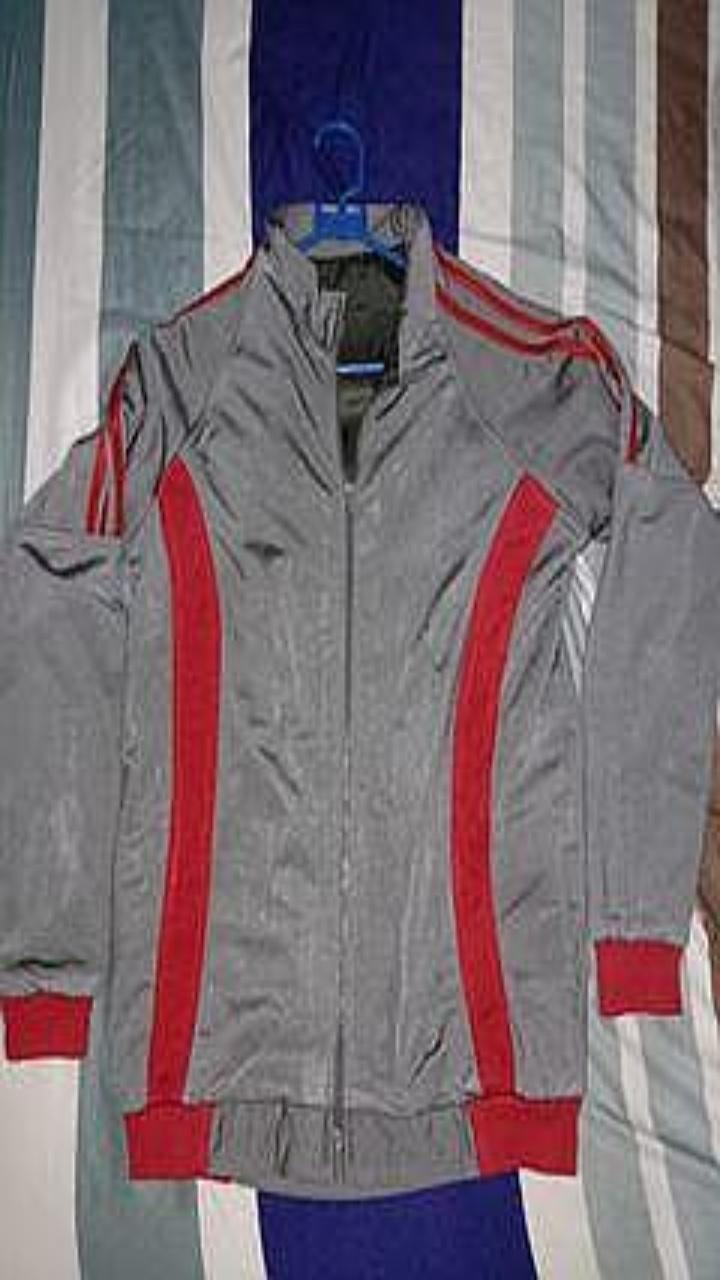Sports_Jacket: (0, 202, 719, 1196)
